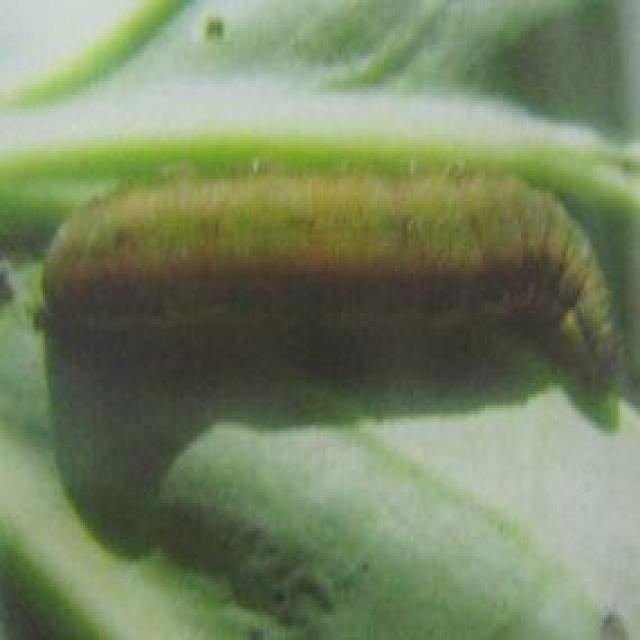BeetArmyWorm-Larva-: (28, 155, 635, 394)
